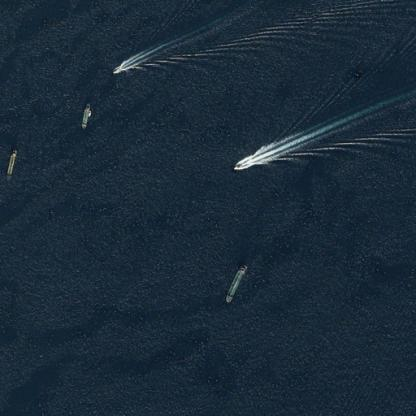ship: (219, 260, 251, 306), (227, 150, 259, 176), (72, 98, 96, 132), (3, 144, 23, 180), (107, 62, 128, 78)
